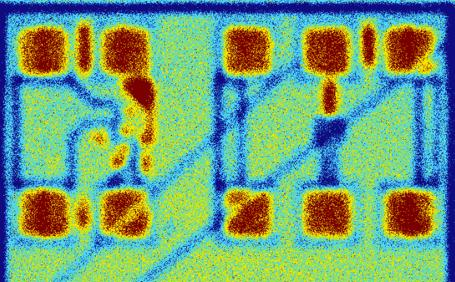Pad 3: (384, 189, 437, 240), (385, 25, 438, 75), (18, 26, 69, 77), (223, 189, 273, 240), (302, 26, 351, 77), (302, 190, 353, 239), (223, 26, 272, 76), (101, 190, 151, 239), (20, 189, 70, 238)
